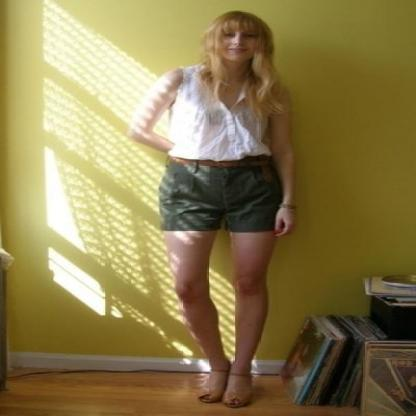shirt: (168, 58, 268, 161)
shoe: (199, 374, 242, 404)
shorts: (158, 168, 283, 233)
